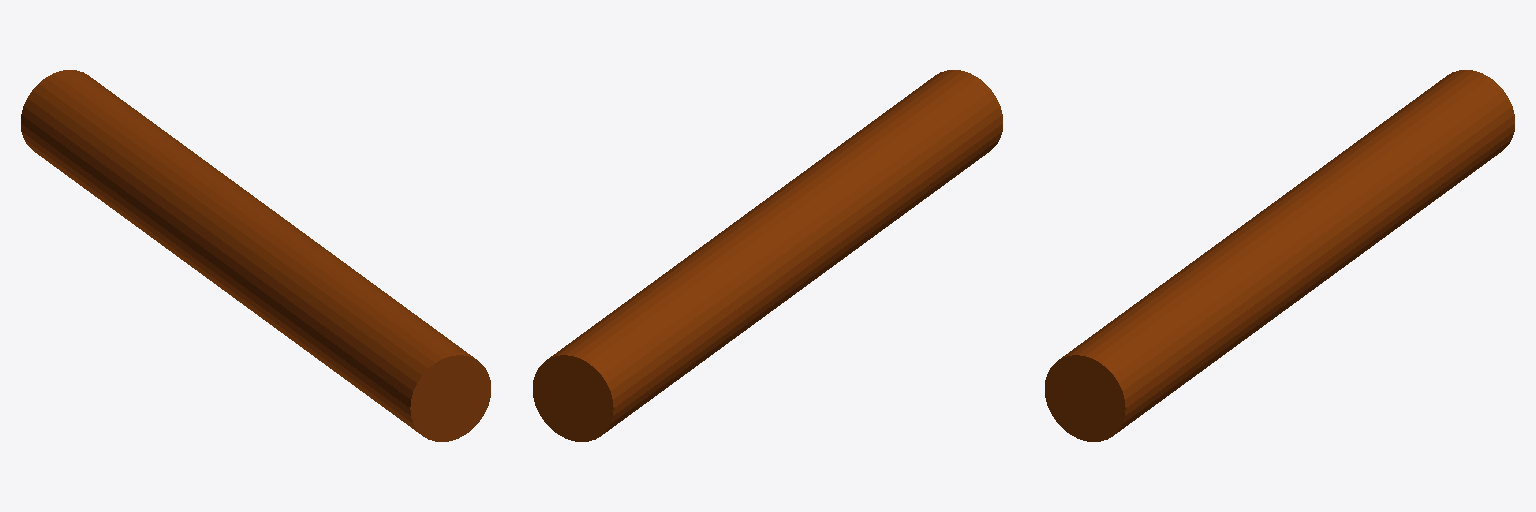
The robot description file, URDF, robot "cylinder":
<?xml version="1.0" ?>
<!-- =================================================================================== -->
<!-- |    This document was autogenerated by xacro from cylinder.xacro                 | -->
<!-- |    EDITING THIS FILE BY HAND IS NOT RECOMMENDED                                 | -->
<!-- =================================================================================== -->
<robot name="cylinder">
  <link name="world"/>
  <link name="base">
    <visual>
      <origin rpy="1.57079633 0 0" xyz="0 0 0"/>
      <geometry>
        <cylinder length="7.07106781185" radius="0.425"/>
      </geometry>
      <material name="cylinder_material">
        <color rgba="0.545 0.271 0.075 1.0"/>
        <texture filename="../textures/tree_bark.jpg"/>
      </material>
    </visual>
    <collision>
      <origin rpy="1.57079633 0 0" xyz="0 0 0"/>
      <geometry>
        <cylinder length="7.07106781185" radius="0.425"/>
      </geometry>
    </collision>
    <inertial>
      <origin rpy="0 0 0" xyz="0 0 0"/>
      <mass value="1"/>
      <inertia ixx="4.211822916648428" ixy="0.0" ixz="0.0" iyy="4.211822916648428" iyz="0.0" izz="24.999999999890573"/>
    </inertial>
  </link>
  <joint name="base_joint" type="fixed">
    <parent link="world"/>
    <child link="base"/>
    <origin rpy="0 0 0" xyz="0.0 0.0 0.0"/>
  </joint>
</robot>

--- Render facts (derived) ---
3 views of the same robot in one strip: view 1: azimuth 30°, elevation 25°; view 2: azimuth 150°, elevation 25°; view 3: azimuth 330°, elevation 25° (orthographic).
Robot: cylinder — 2 links, 1 joints (1 fixed); root link world; default pose: every joint at zero.
Links seen in each view (by area): view 1: base; view 2: base; view 3: base.
Boxes of the visible links, x1,y1,x2,y2 form: base: (21, 70, 490, 441); base: (533, 70, 1002, 441); base: (1045, 70, 1514, 441).
Size in the robot's own frame: 0.85 by 7.07 by 0.85 metres.
Geometry: primitives only (box / cylinder / sphere), no mesh files.
